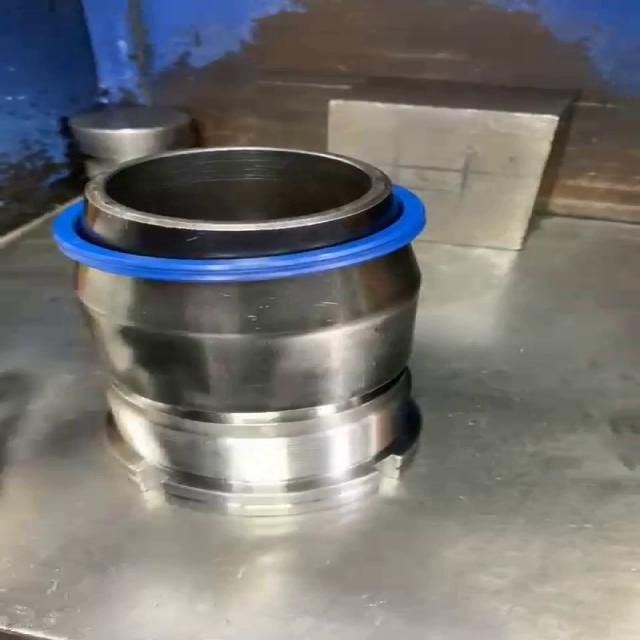purssian-blue-ring: (53, 185, 426, 282)
